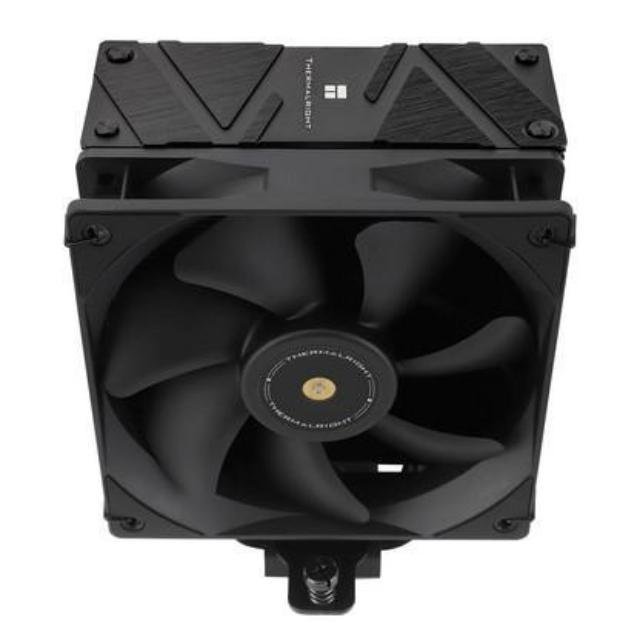CPU_Fan: (61, 32, 579, 620)
